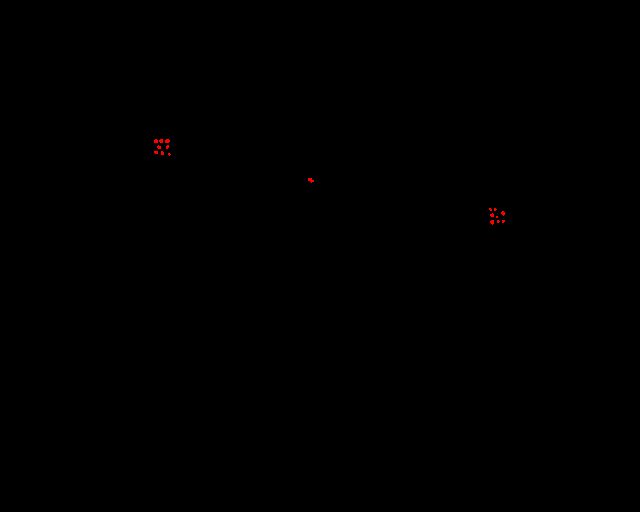Target: (308, 178, 314, 183), (165, 139, 170, 143), (501, 211, 505, 216), (490, 220, 494, 225), (154, 139, 158, 143), (159, 139, 163, 143), (157, 145, 161, 149), (490, 213, 494, 217), (166, 145, 169, 149), (154, 151, 158, 154), (161, 151, 164, 155), (168, 153, 171, 156), (489, 208, 492, 211), (494, 208, 497, 211), (497, 220, 500, 223), (502, 220, 505, 223), (496, 216, 498, 218)
